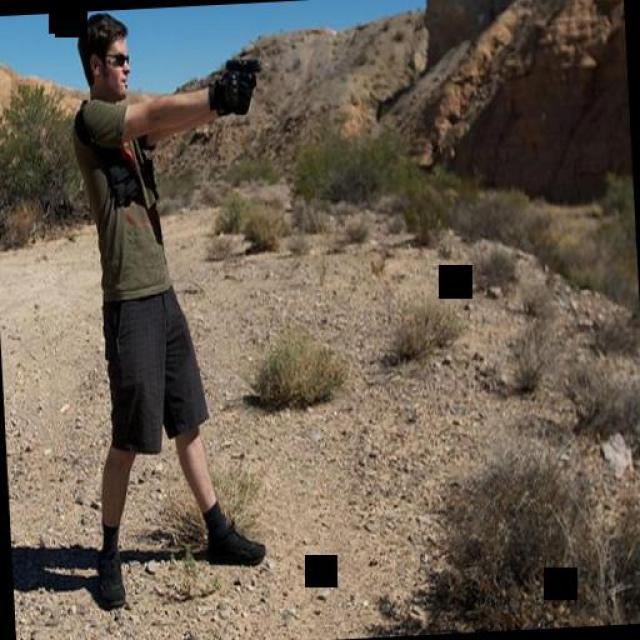gun: (224, 50, 265, 95)
